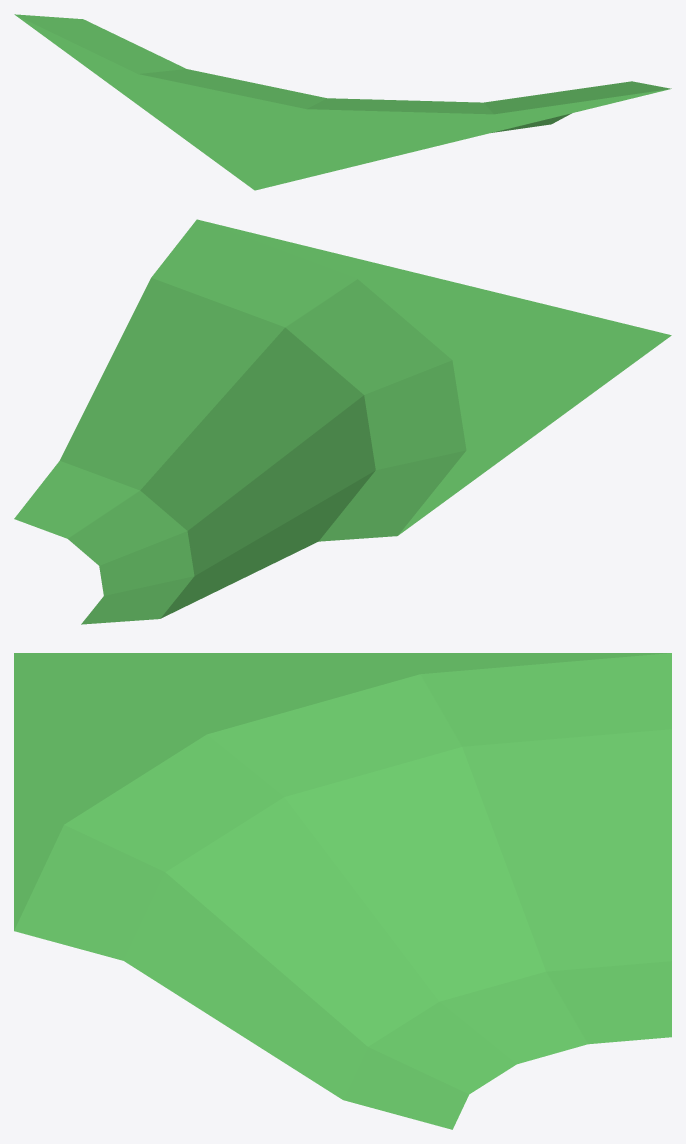
Rendered from Hilly_Terrain_Hill_Corner_Inner_3x3.glb.
3 views of the same model, one above another, from view 1: azimuth 30°, elevation 25°; view 2: azimuth 150°, elevation 25°; view 3: azimuth 270°, elevation 25° (orthographic). The views are drawn at different scales.
Parts seen in each view (by area): view 1: Hilly_Terrain_Hill_Corner_Inner_3x3; view 2: Hilly_Terrain_Hill_Corner_Inner_3x3; view 3: Hilly_Terrain_Hill_Corner_Inner_3x3.
Part boxes in pixels (x1,y1,x2,y2): Hilly_Terrain_Hill_Corner_Inner_3x3: [14, 14, 671, 190]; Hilly_Terrain_Hill_Corner_Inner_3x3: [14, 219, 671, 624]; Hilly_Terrain_Hill_Corner_Inner_3x3: [14, 653, 671, 1129].
Bounding box in the file's own units: 1.01 × 0.336 × 1.01.
